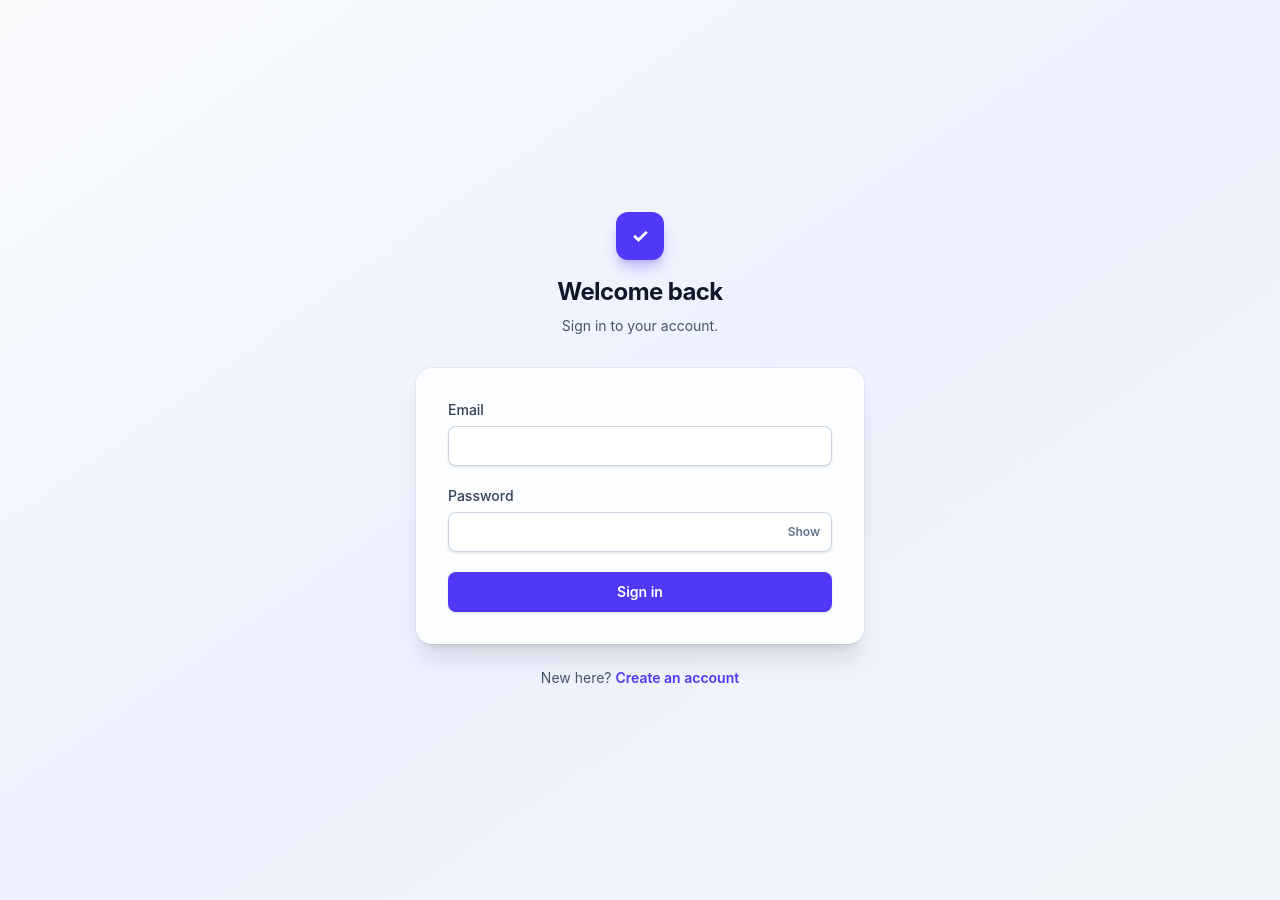
Sign in page › signs in and shows the welcome page
Type "jane@example.com" into the field labelled "Email".
click(640, 446); type("jane@example.com")  # box 448,426 -> 832,466
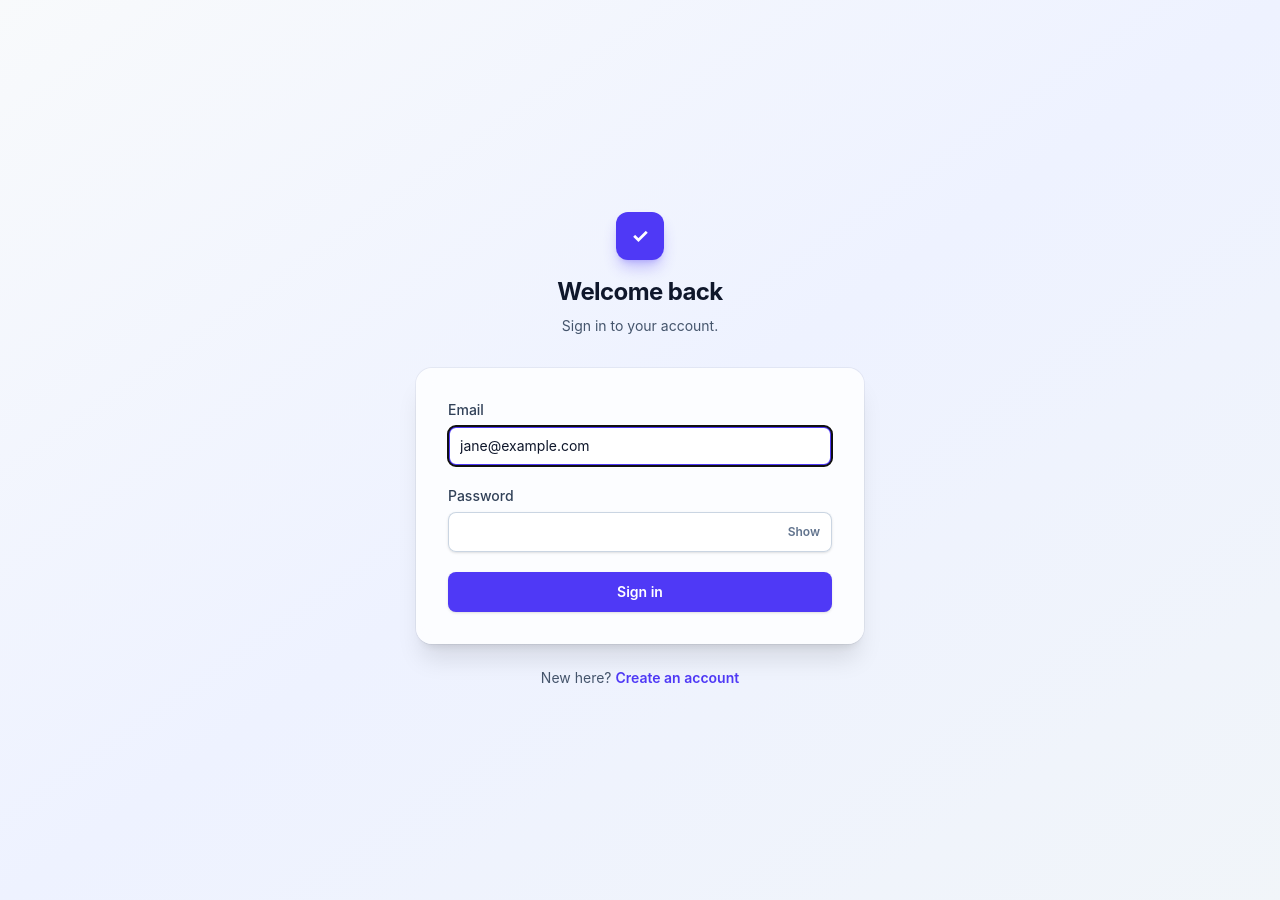
Type "Sup3r$ecret" into the password field labelled "Password".
click(640, 532); type("Sup3r$ecret")  # box 448,512 -> 832,552
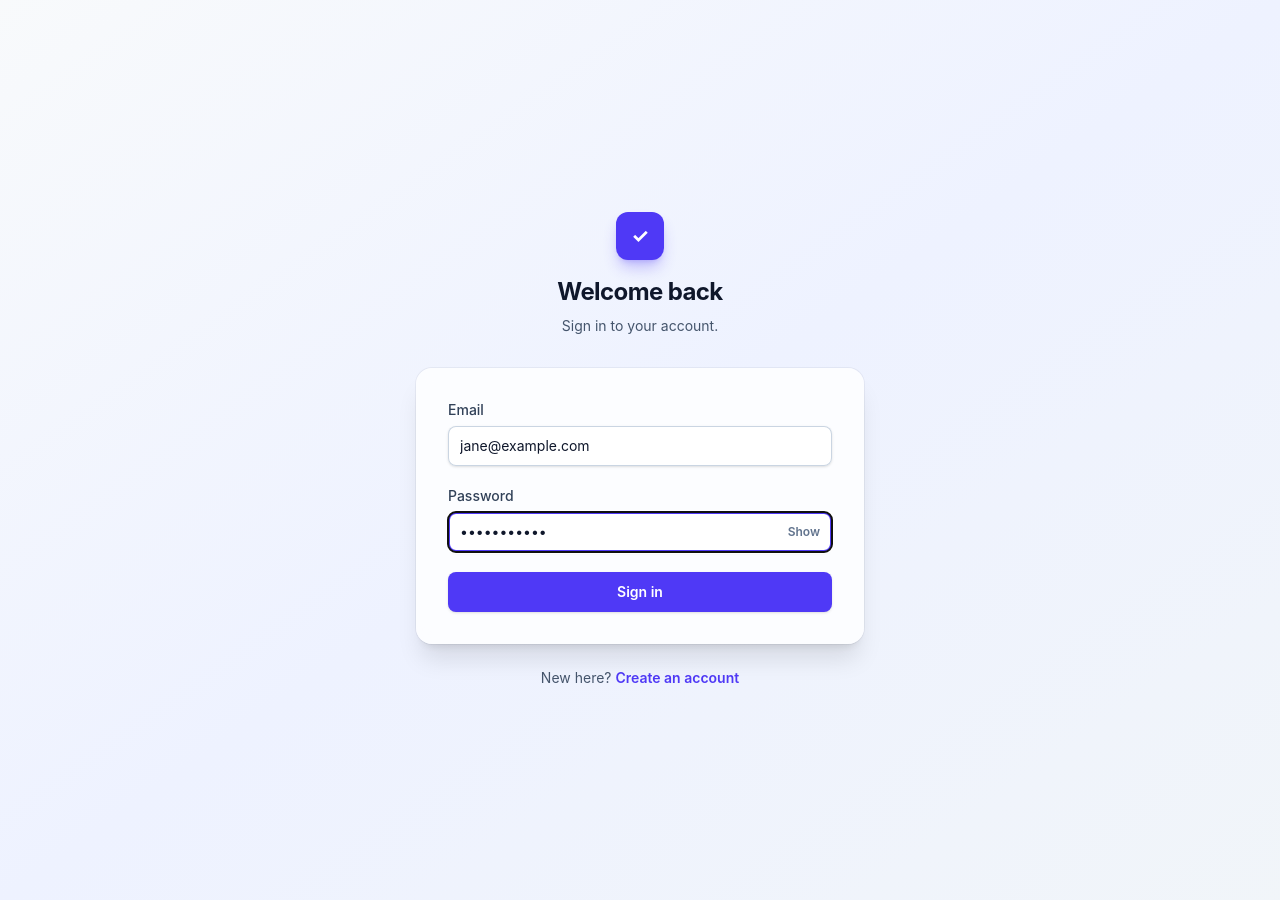
Click the button "Sign in".
click(640, 592)  # box 448,572 -> 832,612
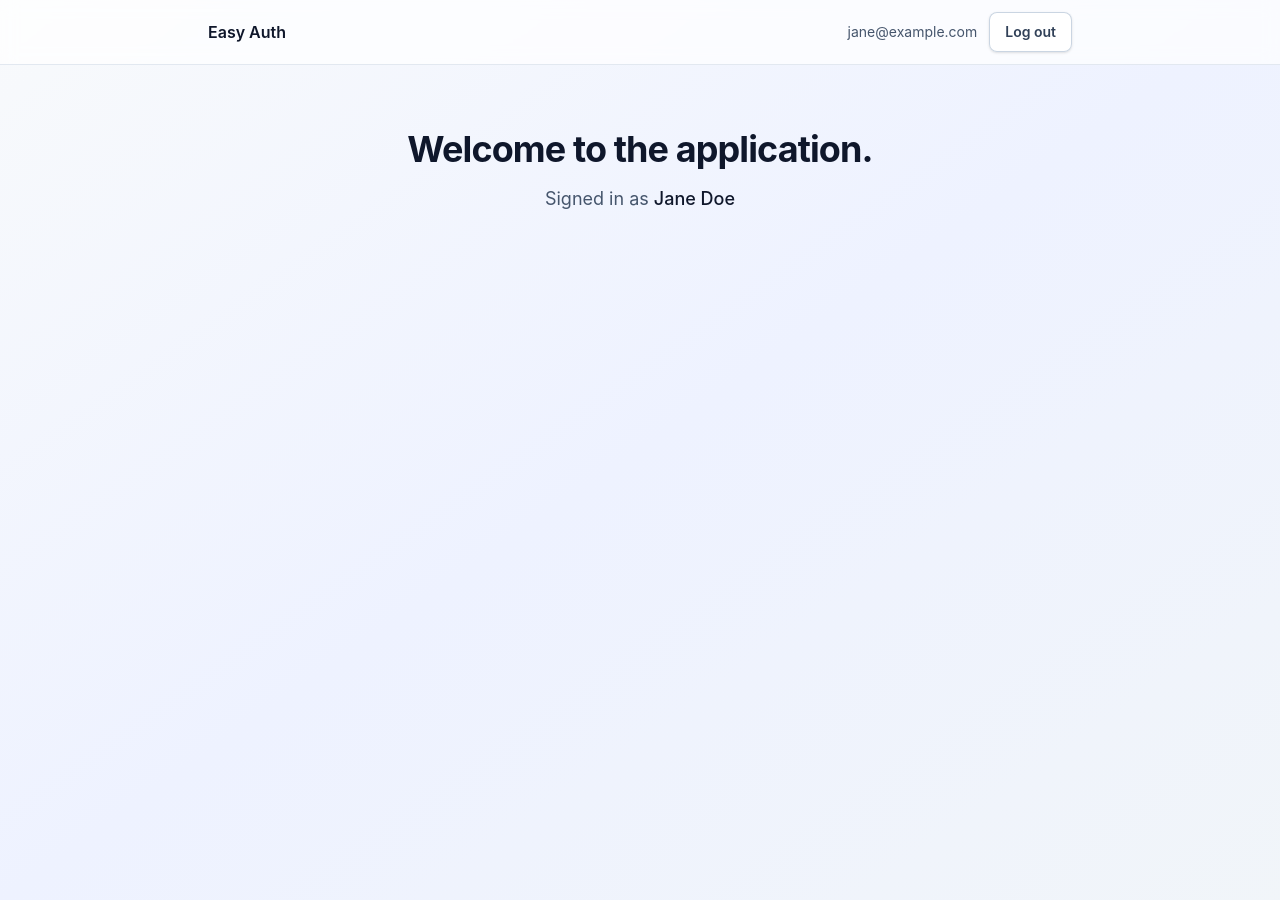
Now the heading "Welcome to the application." is shown, box 407,127 -> 873,171
Now the text "Jane Doe" is shown, box 654,188 -> 735,209
